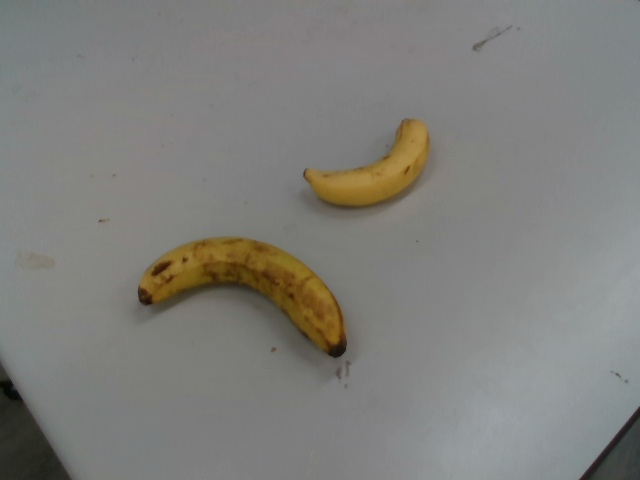banana: (135, 232, 349, 359), (300, 116, 435, 212)
